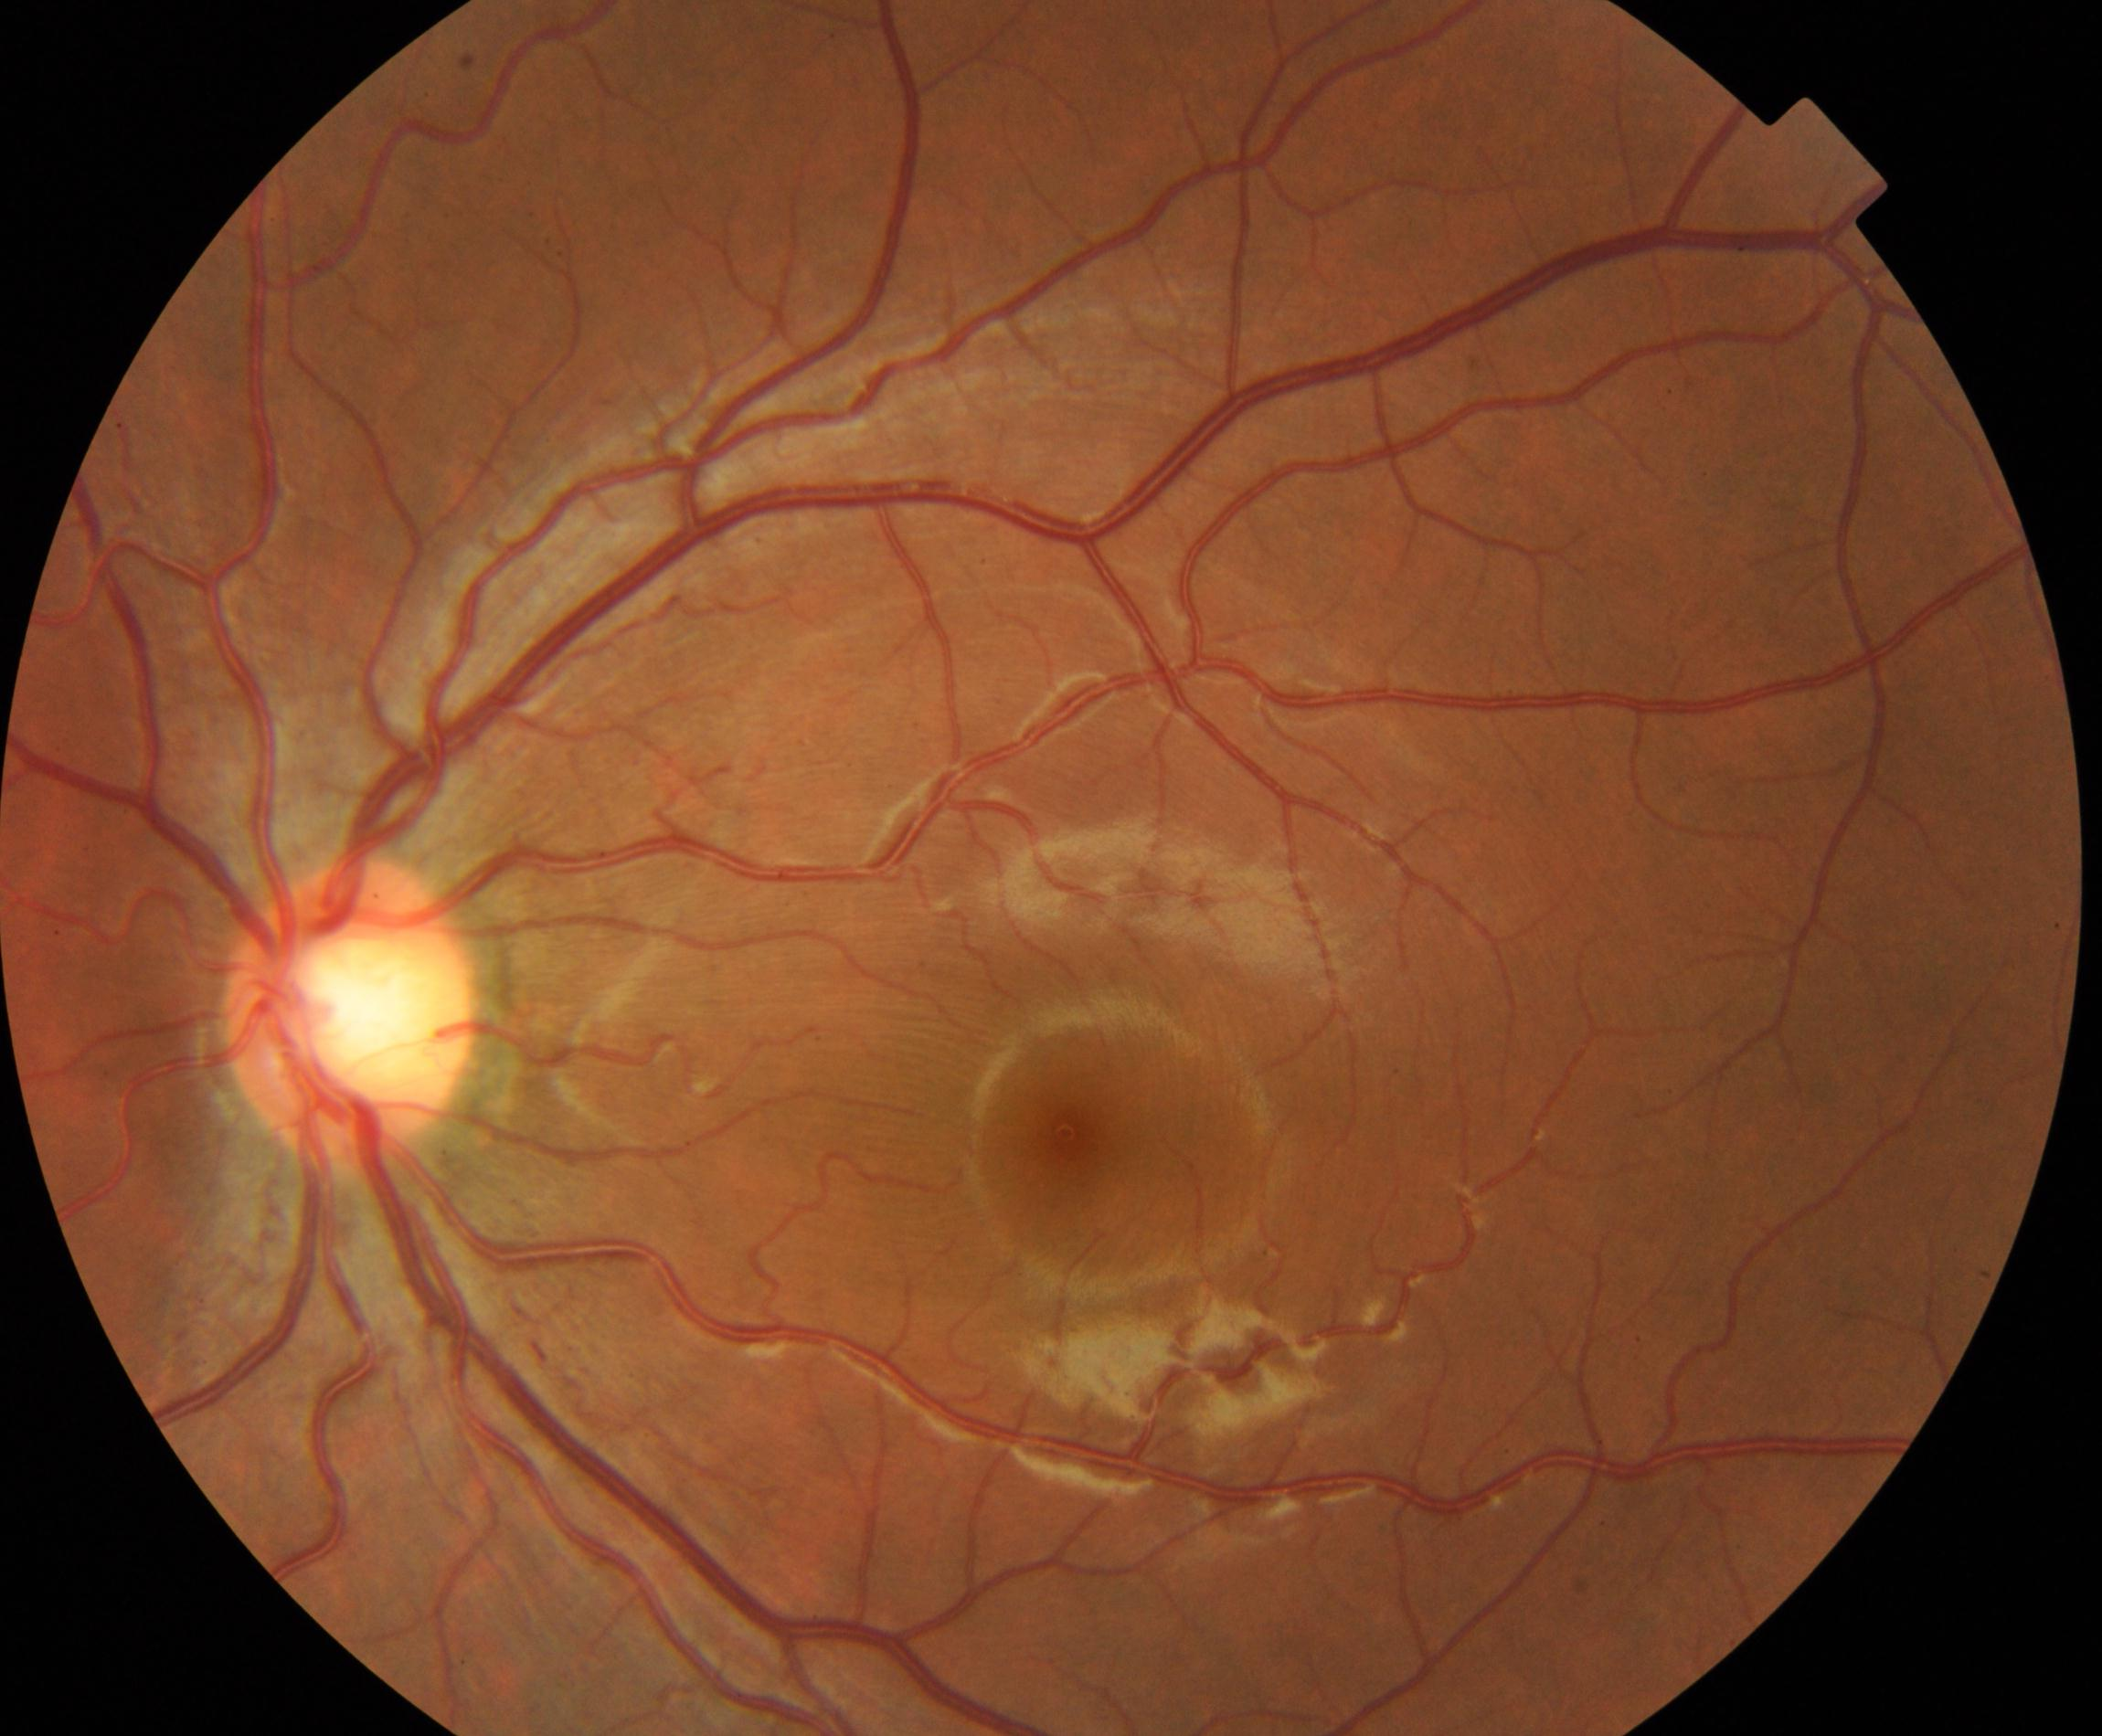Glaucoma section-1: (316, 953, 416, 1092)
Glaucoma section-2: (222, 857, 478, 1171)
